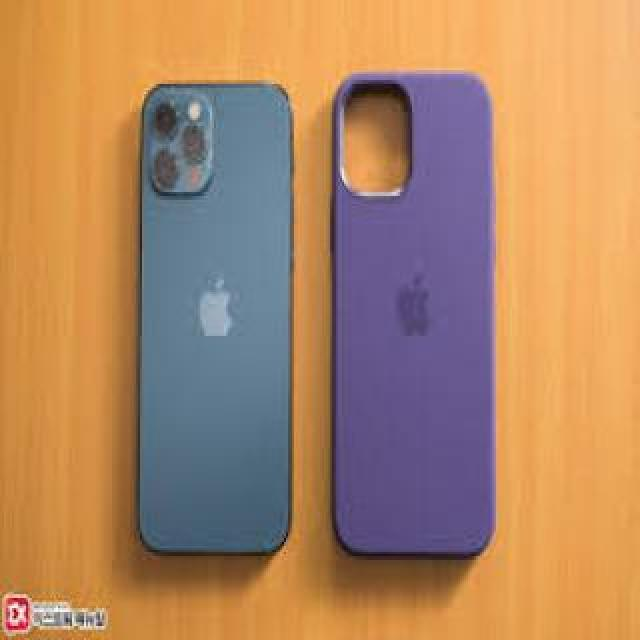smart phone: (309, 55, 556, 575), (116, 68, 288, 566)
